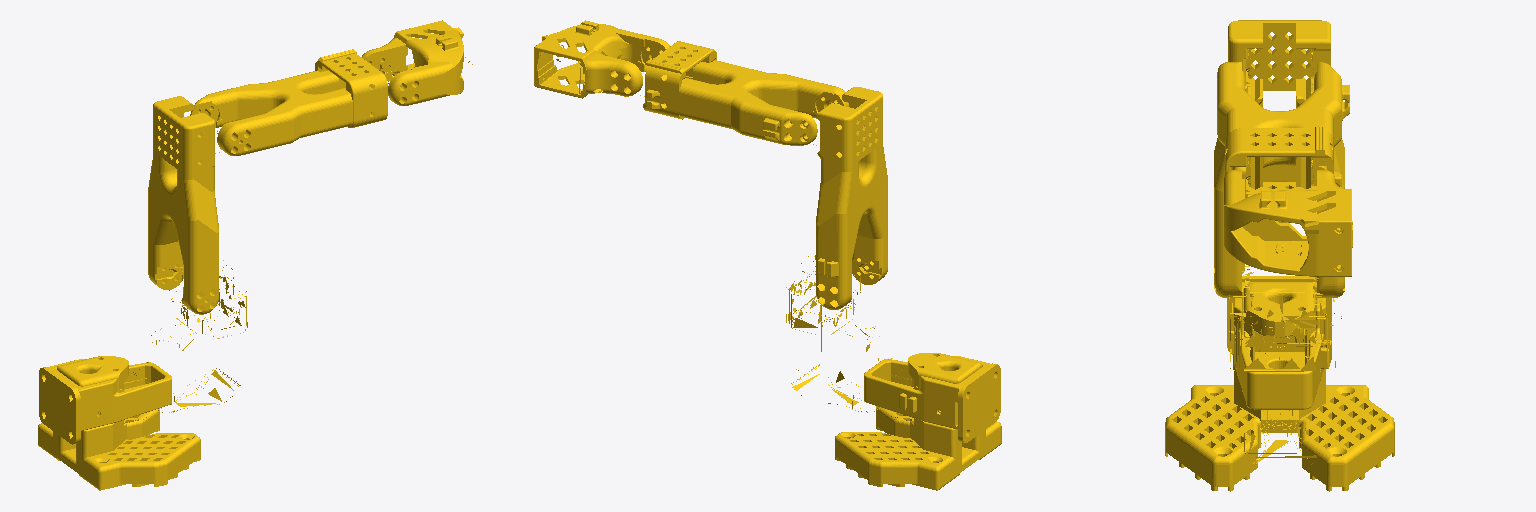
URDF robot description (so101_new_calib):
<?xml version="1.0" encoding="utf-8"?>
<!--
  SO-101 (SO-ARM101) follower arm — arm-only 5-DOF kinematics + collision meshes.

  Provenance: derived from TheRobotStudio/SO-ARM100
    Simulation/SO101/so101_new_calib.urdf
    @ commit fda892cba81032c46c40976a48c9ceadbf40a9ca
    License: Apache-2.0 (see SO-ARM100-LICENSE alongside this file).

  Modifications from upstream:
    (a) the "gripper" revolute joint and its child link
        "moving_jaw_so101_v1_link" (servo 6) were removed, yielding an
        arm-only 5-DOF model (servos 1-5). The gripper is a separate Viam
        servo-6 component with its own meshes.
    (b) each arm link's collision geometry is ONE merged mesh
        (meshes/<link>_collision.stl, ~88k tris / 4.2 MB total), generated by
        tools/gen_collision_meshes.py: each sub-part is baked into its <collision>
        <origin> and the parts are concatenated per link. This is required
        because rdk's URDF parser keeps only the FIRST <collision> per link
        (referenceframe/model_urdf.go); the upstream multi-part links would
        otherwise contribute a single offset sub-part. Printable parts come from
        the optimized STL/SO101/Individual print files and servo bodies from
        Simulation/SO101/assets (decimated to ~3k tris); the merged mesh itself
        is not decimated, keeping the geometry clean. use_urdf ships these
        pre-optimized meshes (mesh_decimation_ratios empty; rdk's runtime mesh
        decimation hangs on dense meshes). The per-link <origin> below is
        so101.json's primitive-box translation offset, and each mesh is generated
        relative to that box pose (not the bare link frame): the 3D scene viewer
        places each Get3DModels GLB at the link's *geometry* pose, so matching
        so101.json's box pose keeps the shared GLBs from scattering under use_urdf
        (see TestURDFGeometryPoseMatchesJSON). <visual> mirrors <collision>; rdk
        ignores <visual>.
    (c) link and joint frames are renamed to so101.json's names (links base,
        shoulder, upper_arm, lower_arm, wrist; joints 1-5), and the end effector
        is "tool" at so101.json's TCP (see the End effector comment below). This
        makes use_urdf a true drop-in for so101.json: identical frame names,
        kinematics, and TCP; only the collision geometry differs (per-link
        meshes vs so101.json's primitives). Baking these into the file (rather
        than editing the parsed model in memory) is REQUIRED because a component
        ships its kinematics to viam-server as ModelConfig().OriginalFile.Bytes,
        i.e. this raw URDF; in-memory edits would be lost across the module
        gRPC boundary (see makeSO101ModelURDF and TestURDFModelSurvivesSerialization).
        The mesh files keep their upstream-derived names (base_link_collision.stl,
        etc.) even though the links are renamed; only the geometry provenance is
        encoded in the filename.

  Units: meters (URDF convention); the SVA kinematics in so101.json are in mm.
-->
<!-- Generated using onshape-to-robot -->
<!-- Onshape https://cad.onshape.com/documents/7715cc284bb430fe6dab4ffd/w/4fd0791b683777b02f8d975a/e/826c553ede3b7592eb9ca800 -->
<robot name="so101_new_calib">

  <!-- Materials -->
  <material name="3d_printed">
    <color rgba="1.0 0.82 0.12 1.0"/>
  </material>
  <material name="sts3215">
    <color rgba="0.1 0.1 0.1 1.0"/>
  </material>

  <!-- Link base -->
  <link name="base">
    <inertial>
      <origin xyz="0.0137179 -5.19711e-05 0.0334843" rpy="0 0 0"/>
      <mass value="0.147"/>
      <inertia ixx="0.000114686" ixy="-4.59787e-07" ixz="4.97151e-06" iyy="0.000136117" iyz="9.75275e-08" izz="0.000130364"/>
    </inertial>
    <visual>
      <origin xyz="0.016826 -7e-09 0.0336" rpy="0 0 0"/>
      <geometry>
        <mesh filename="meshes/base_link_collision.stl"/>
      </geometry>
      <material name="3d_printed"/>
    </visual>
    <collision>
      <origin xyz="0.016826 -7e-09 0.0336" rpy="0 0 0"/>
      <geometry>
        <mesh filename="meshes/base_link_collision.stl"/>
      </geometry>
    </collision>
  </link>

  <!-- Link shoulder -->
  <link name="shoulder">
    <inertial>
      <origin xyz="-0.0307604 -1.66727e-05 -0.0252713" rpy="0 0 0"/>
      <mass value="0.100006"/>
      <inertia ixx="8.3759e-05" ixy="7.55525e-08" ixz="-1.16342e-06" iyy="8.10403e-05" iyz="1.54663e-07" izz="2.39783e-05"/>
    </inertial>
    <visual>
      <origin xyz="-0.0191992 0.001162469 -0.0091" rpy="0 0 0"/>
      <geometry>
        <mesh filename="meshes/shoulder_link_collision.stl"/>
      </geometry>
      <material name="3d_printed"/>
    </visual>
    <collision>
      <origin xyz="-0.0191992 0.001162469 -0.0091" rpy="0 0 0"/>
      <geometry>
        <mesh filename="meshes/shoulder_link_collision.stl"/>
      </geometry>
    </collision>
  </link>

  <!-- Link upper_arm -->
  <link name="upper_arm">
    <inertial>
      <origin xyz="-0.0898471 -0.00838224 0.0184089" rpy="0 0 0"/>
      <mass value="0.103"/>
      <inertia ixx="4.08002e-05" ixy="-1.97819e-05" ixz="-4.03016e-08" iyy="0.000147318" iyz="8.97326e-09" izz="0.000142487"/>
    </inertial>
    <visual>
      <origin xyz="-0.059118 -0.0131 0.02014993" rpy="0 0 0"/>
      <geometry>
        <mesh filename="meshes/upper_arm_link_collision.stl"/>
      </geometry>
      <material name="3d_printed"/>
    </visual>
    <collision>
      <origin xyz="-0.059118 -0.0131 0.02014993" rpy="0 0 0"/>
      <geometry>
        <mesh filename="meshes/upper_arm_link_collision.stl"/>
      </geometry>
    </collision>
  </link>

  <!-- Link lower_arm -->
  <link name="lower_arm">
    <inertial>
      <origin xyz="-0.0980701 0.00324376 0.0182831" rpy="0 0 0"/>
      <mass value="0.104"/>
      <inertia ixx="2.87438e-05" ixy="7.41152e-06" ixz="1.26409e-06" iyy="0.000159844" iyz="-4.90188e-08" izz="0.00014529"/>
    </inertial>
    <visual>
      <origin xyz="-0.066551 0.00345 0.02019965" rpy="0 0 0"/>
      <geometry>
        <mesh filename="meshes/lower_arm_link_collision.stl"/>
      </geometry>
      <material name="3d_printed"/>
    </visual>
    <collision>
      <origin xyz="-0.066551 0.00345 0.02019965" rpy="0 0 0"/>
      <geometry>
        <mesh filename="meshes/lower_arm_link_collision.stl"/>
      </geometry>
    </collision>
  </link>

  <!-- Link wrist -->
  <link name="wrist">
    <inertial>
      <origin xyz="-0.000103312 -0.0386143 0.0281156" rpy="0 0 0"/>
      <mass value="0.079"/>
      <inertia ixx="3.68263e-05" ixy="1.7893e-08" ixz="-5.28128e-08" iyy="2.5391e-05" iyz="3.6412e-06" izz="2.1e-05"/>
    </inertial>
    <visual>
      <origin xyz="-0.00217 -0.026935 0.02214943" rpy="0 0 0"/>
      <geometry>
        <mesh filename="meshes/wrist_link_collision.stl"/>
      </geometry>
      <material name="3d_printed"/>
    </visual>
    <collision>
      <origin xyz="-0.00217 -0.026935 0.02214943" rpy="0 0 0"/>
      <geometry>
        <mesh filename="meshes/wrist_link_collision.stl"/>
      </geometry>
    </collision>
  </link>

  <!-- End effector: "tool" is so101.json's TCP frame, i.e. joint-5 (wrist roll) output with a
       180deg flip (matching so101.json's "tool" link, euler 0 pi 0.0486795). Baked in here so the
       raw URDF that ships to viam-server (ModelConfig().OriginalFile.Bytes) already has the correct
       end effector; an intermediate "tool_mount" carries joint 5's rotation and the fixed
       "tool_joint" applies the flip (a revolute joint's child cannot carry an extra rotation). -->
  <link name="tool_mount"/>
  <joint name="tool_joint" type="fixed">
    <origin xyz="0 0 0" rpy="0 3.14159 0.0486795"/>
    <parent link="tool_mount"/>
    <child link="tool"/>
  </joint>
  <link name="tool"/>

  <!-- Joint from wrist to gripper -->
  <joint name="5" type="revolute">
    <origin xyz="5.55112e-17 -0.0611 0.0181" rpy="1.5708 0.0486795 3.14159"/>
    <parent link="wrist"/>
    <child link="tool_mount"/>
    <axis xyz="0 0 1"/>
    <limit effort="10" velocity="10" lower="-2.74385" upper="2.84121"/>
  </joint>

  <transmission name="wrist_roll_trans">
    <type>transmission_interface/SimpleTransmission</type>
    <joint name="5">
      <hardwareInterface>hardware_interface/PositionJointInterface</hardwareInterface>
    </joint>
    <actuator name="motor5">
      <hardwareInterface>hardware_interface/PositionJointInterface</hardwareInterface>
      <mechanicalReduction>1</mechanicalReduction>
    </actuator>
  </transmission>

  <!-- Joint from lower_arm to wrist -->
  <joint name="4" type="revolute">
    <origin xyz="-0.1349 0.0052 3.62355e-17" rpy="4.02456e-15 8.67362e-16 -1.5708"/>
    <parent link="lower_arm"/>
    <child link="wrist"/>
    <axis xyz="0 0 1"/>
    <limit effort="10" velocity="10" lower="-1.65806" upper="1.65806"/>
  </joint>

  <transmission name="wrist_flex_trans">
    <type>transmission_interface/SimpleTransmission</type>
    <joint name="4">
      <hardwareInterface>hardware_interface/PositionJointInterface</hardwareInterface>
    </joint>
    <actuator name="motor4">
      <hardwareInterface>hardware_interface/PositionJointInterface</hardwareInterface>
      <mechanicalReduction>1</mechanicalReduction>
    </actuator>
  </transmission>

  <!-- Joint from upper_arm to lower_arm -->
  <!-- Note: 5-degree calibration offset applied to joint limits -->
  <joint name="3" type="revolute">
    <origin xyz="-0.11257 -0.028 1.73763e-16" rpy="-3.63608e-16 8.74301e-16 1.5708"/>
    <parent link="upper_arm"/>
    <child link="lower_arm"/>
    <axis xyz="0 0 1"/>
    <limit effort="10" velocity="10" lower="-1.69" upper="1.69"/>
  </joint>

  <transmission name="elbow_flex_trans">
    <type>transmission_interface/SimpleTransmission</type>
    <joint name="3">
      <hardwareInterface>hardware_interface/PositionJointInterface</hardwareInterface>
    </joint>
    <actuator name="motor3">
      <hardwareInterface>hardware_interface/PositionJointInterface</hardwareInterface>
      <mechanicalReduction>1</mechanicalReduction>
    </actuator>
  </transmission>

  <!-- Joint from shoulder to upper_arm -->
  <joint name="2" type="revolute">
    <origin xyz="-0.0303992 -0.0182778 -0.0542" rpy="-1.5708 -1.5708 0"/>
    <parent link="shoulder"/>
    <child link="upper_arm"/>
    <axis xyz="0 0 1"/>
    <limit effort="10" velocity="10" lower="-1.74533" upper="1.74533"/>
  </joint>

  <transmission name="shoulder_lift_trans">
    <type>transmission_interface/SimpleTransmission</type>
    <joint name="2">
      <hardwareInterface>hardware_interface/PositionJointInterface</hardwareInterface>
    </joint>
    <actuator name="motor2">
      <hardwareInterface>hardware_interface/PositionJointInterface</hardwareInterface>
      <mechanicalReduction>1</mechanicalReduction>
    </actuator>
  </transmission>

  <!-- Joint from base to shoulder -->
  <joint name="1" type="revolute">
    <origin xyz="0.0388353 -8.97657e-09 0.0624" rpy="3.14159 4.18253e-17 -3.14159"/>
    <parent link="base"/>
    <child link="shoulder"/>
    <axis xyz="0 0 1"/>
    <limit effort="10" velocity="10" lower="-1.91986" upper="1.91986"/>
  </joint>

  <transmission name="shoulder_pan_trans">
    <type>transmission_interface/SimpleTransmission</type>
    <joint name="1">
      <hardwareInterface>hardware_interface/PositionJointInterface</hardwareInterface>
    </joint>
    <actuator name="motor1">
      <hardwareInterface>hardware_interface/PositionJointInterface</hardwareInterface>
      <mechanicalReduction>1</mechanicalReduction>
    </actuator>
  </transmission>

</robot>

--- Facts derived from the render (not from the file) ---
The picture shows the robot from 3 angles, left to right: view 1: azimuth 30°, elevation 25°; view 2: azimuth 150°, elevation 25°; view 3: azimuth 270°, elevation 25°; orthographic projection.
Robot: so101_new_calib — 7 links, 6 joints (5 revolute, 1 fixed); root link base; default pose: all joints at 0.
Visible links, largest first — view 1: base, upper_arm, lower_arm, wrist, shoulder; view 2: base, upper_arm, lower_arm, wrist, shoulder; view 3: base, lower_arm, wrist, upper_arm, shoulder.
Boxes of the visible links, x1,y1,x2,y2 form: base: (38, 356, 200, 490); upper_arm: (148, 96, 221, 314); lower_arm: (190, 49, 391, 155); wrist: (362, 20, 472, 105); shoulder: (151, 260, 247, 412); base: (835, 353, 1001, 490); upper_arm: (813, 87, 887, 309); lower_arm: (638, 41, 848, 145); wrist: (534, 20, 669, 98); shoulder: (786, 255, 879, 412); base: (1165, 276, 1394, 491); lower_arm: (1217, 62, 1349, 213); wrist: (1224, 170, 1351, 276); upper_arm: (1214, 20, 1352, 297); shoulder: (1229, 266, 1341, 464).
Size in the robot's own frame: 0.3289 by 0.1109 by 0.2568 metres.
Meshes: 5 distinct files referenced, 5 mesh visuals loaded (5 binary STL).
